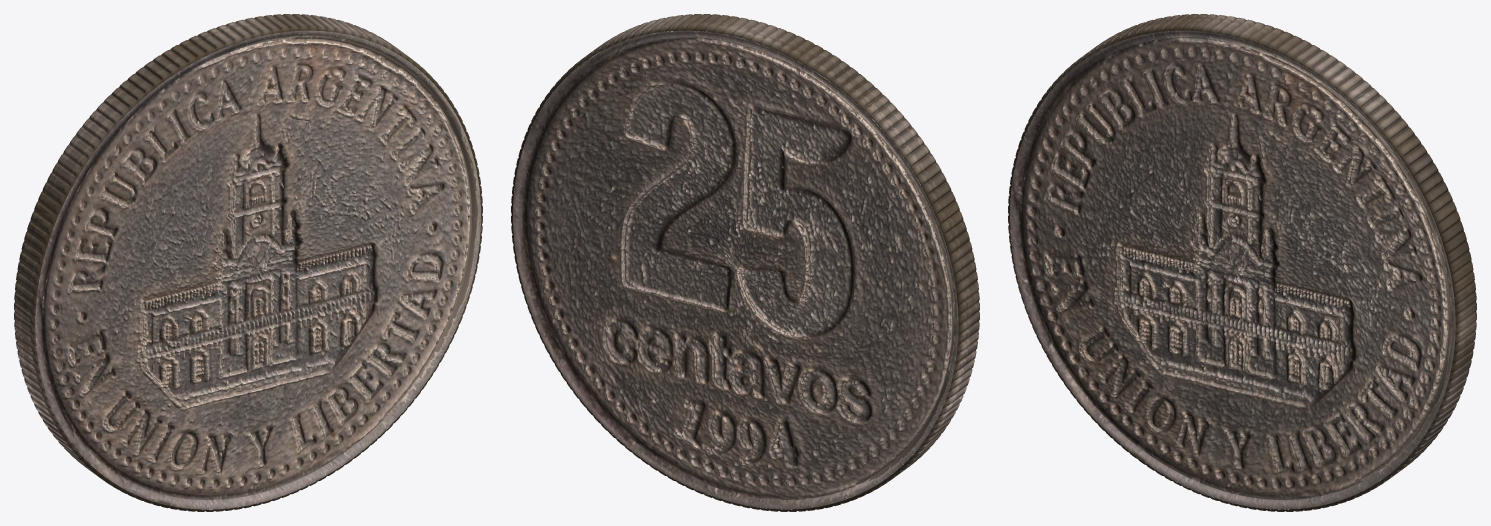
Rendered from 25-centavos-1994.glb.
3 renders of one model, left to right at view 1: azimuth 30°, elevation 25°; view 2: azimuth 150°, elevation 25°; view 3: azimuth 330°, elevation 25°, orthographic.
Parts seen in each view (by area): view 1: obverse, edge; view 2: reverse, edge; view 3: obverse, edge.
Part boxes in pixels (bbox=[...]): obverse: bbox=[35, 30, 480, 509]; edge: bbox=[14, 14, 482, 511]; reverse: bbox=[513, 30, 958, 509]; edge: bbox=[511, 14, 979, 511]; obverse: bbox=[1010, 30, 1455, 509]; edge: bbox=[1008, 14, 1476, 511].
Bounding box in the file's own units: 0.0242 × 0.0242 × 0.0018.
3 materials, 3 textured.
